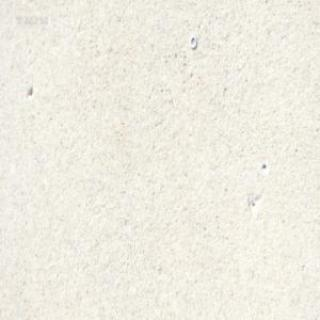Washertrack_idkeyframe: (188, 33, 196, 48)
